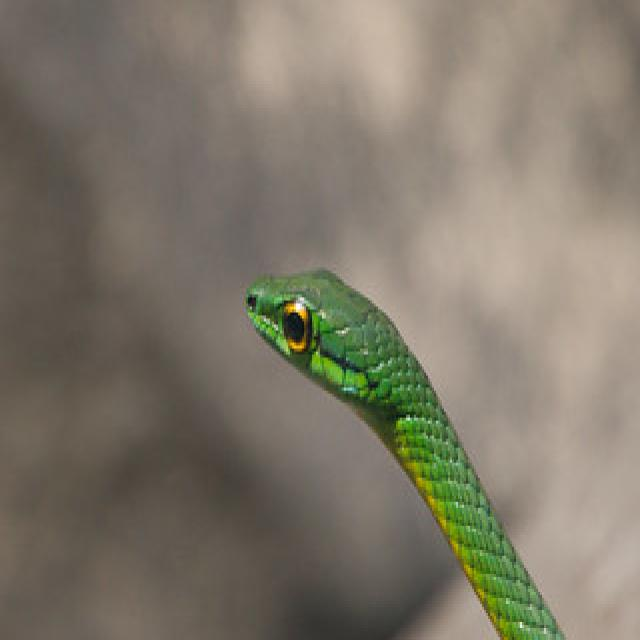Snake: (242, 261, 640, 640)
